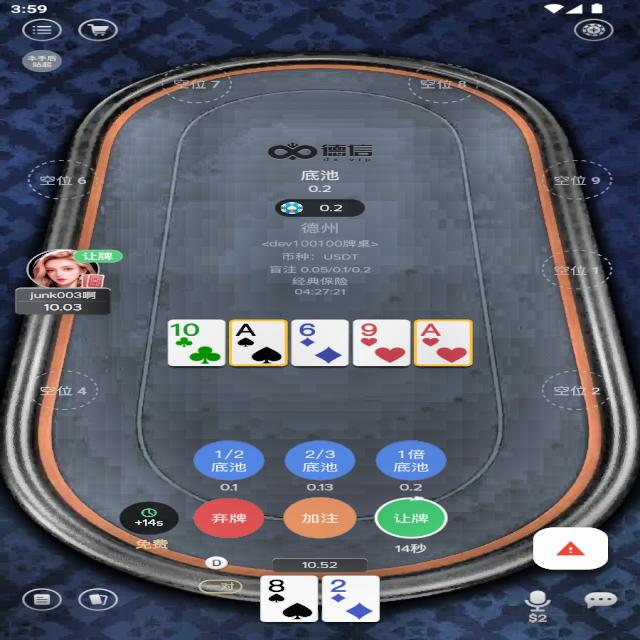10m: (168, 321, 202, 338)
2f: (327, 577, 351, 594)
6f: (297, 321, 321, 338)
8s: (265, 578, 289, 593)
9h: (359, 321, 380, 338)
Ah: (418, 322, 445, 338)
As: (233, 322, 259, 338)
